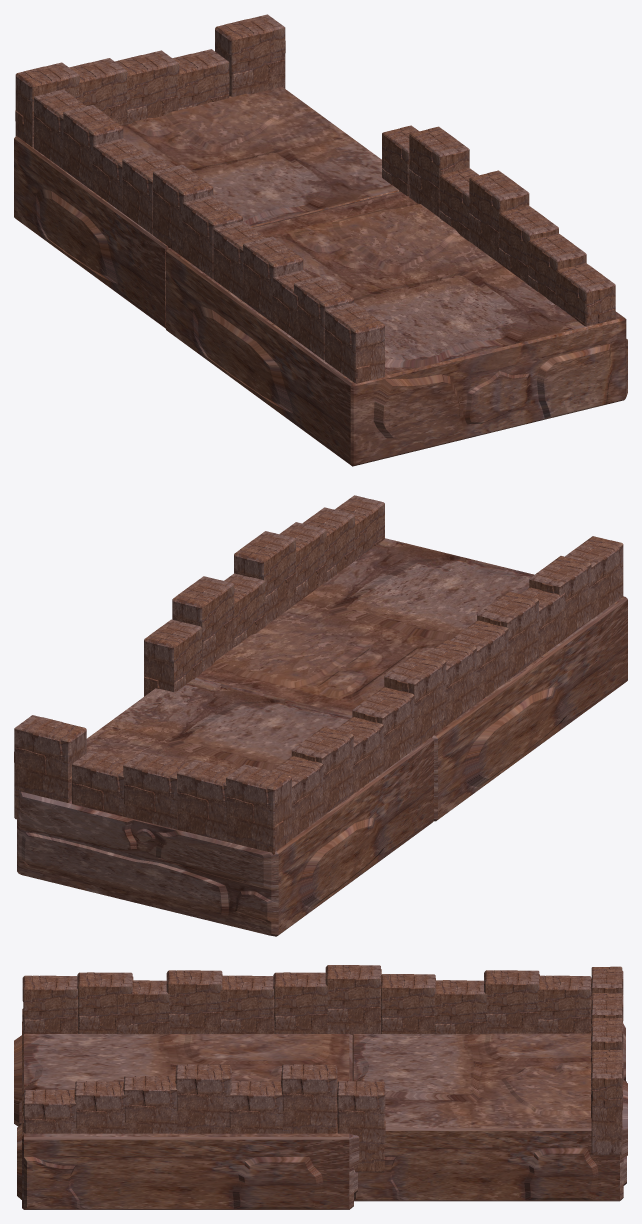
Rendered from porteCurta.fbx.
The picture shows the model from 3 angles, top to bottom: view 1: azimuth 30°, elevation 25°; view 2: azimuth 150°, elevation 25°; view 3: azimuth 270°, elevation 25°; orthographic projection. The views are drawn at different scales.
Visible parts, largest first — view 1: pCube3, pCube4, colunas116, colunas139, colunas134, colunas114, colunas132, colunas125, colunas133, colunas128, colunas137, colunas124 (+13 smaller); view 2: pCube4, pCube3, colunas116, colunas112, colunas134, colunas114, colunas113, colunas132, colunas135, colunas125, colunas137, colunas128 (+13 smaller); view 3: pCube3, pCube4, colunas134, colunas132, colunas125, colunas135, colunas137, colunas128, colunas124, colunas116, colunas126, colunas139 (+12 smaller).
Boxes of the visible parts, box(x1,y1,x2,y2) form: pCube3: box(166, 191, 627, 466); pCube4: box(14, 87, 399, 328); colunas116: box(215, 14, 285, 96); colunas139: box(325, 302, 384, 383); colunas134: box(409, 126, 469, 217); colunas114: box(115, 50, 179, 124); colunas132: box(469, 170, 529, 262); colunas125: box(153, 164, 213, 256); colunas133: box(555, 263, 615, 326); colunas128: box(63, 105, 123, 190); colunas137: box(243, 236, 303, 322); colunas124: box(182, 195, 242, 278); pCube4: box(17, 679, 433, 936); pCube3: box(194, 538, 627, 821); colunas116: box(14, 715, 86, 819); colunas112: box(226, 764, 291, 854); colunas134: box(172, 576, 234, 671); colunas114: box(123, 752, 189, 829); colunas113: box(177, 760, 235, 841); colunas132: box(234, 531, 295, 625); colunas135: box(144, 619, 201, 696); colunas125: box(384, 653, 446, 748); colunas137: box(477, 591, 538, 680); colunas128: box(291, 727, 353, 815); pCube3: box(14, 1020, 359, 1209); pCube4: box(352, 1024, 627, 1201); colunas134: box(281, 1064, 337, 1133); colunas132: box(175, 1064, 231, 1133); colunas125: box(325, 965, 381, 1034); colunas135: box(337, 1081, 385, 1172); colunas137: box(166, 970, 222, 1033); colunas128: box(484, 970, 539, 1033); colunas124: box(273, 972, 327, 1033); colunas116: box(591, 1054, 623, 1155); colunas126: box(381, 974, 435, 1033); colunas139: box(22, 975, 77, 1033).
Size of the model in its own units: 3.34 by 1.66 by 7.11.
Materials: 2 (2 with a texture image).
